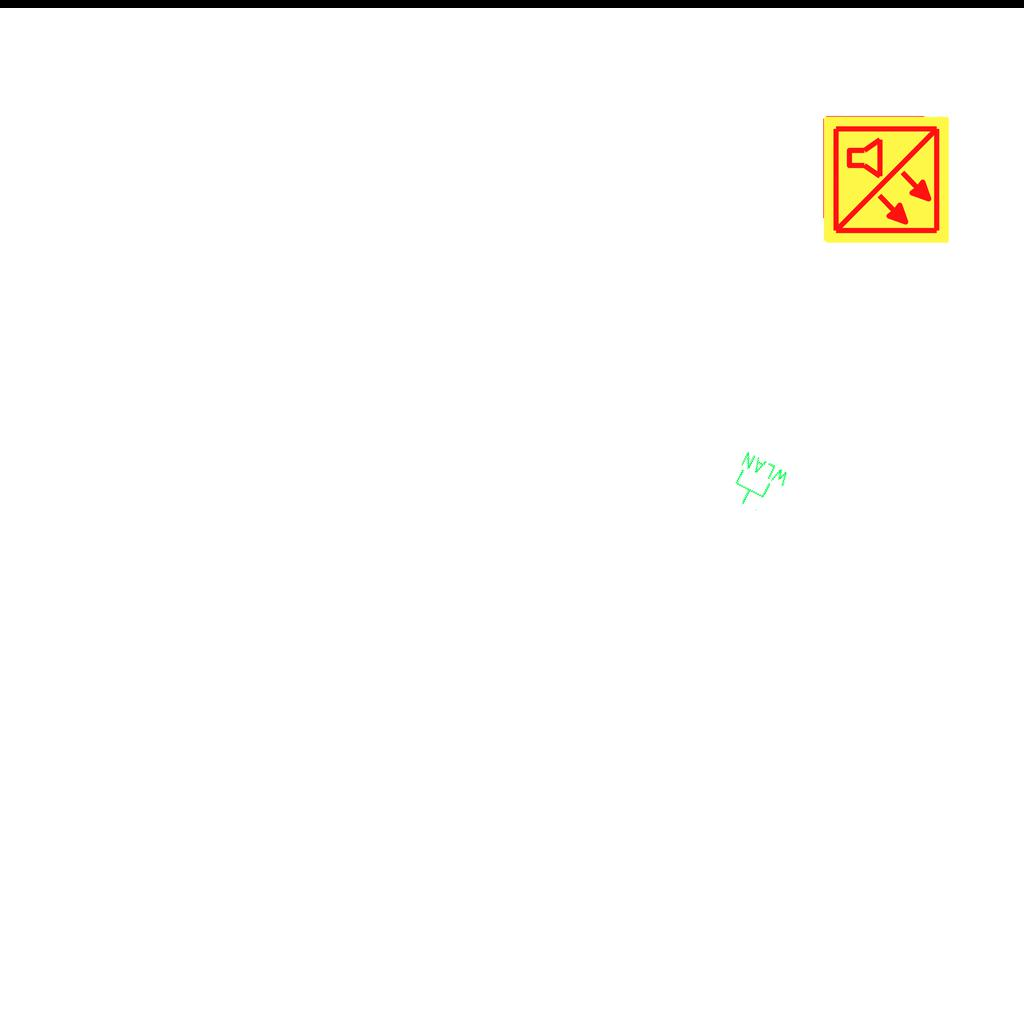OKW_Multisensormelder_(Kombination_optischer_Rauch-Kahlenmonoxid_Waerme-Melder): (820, 114, 952, 246)
WLAN: (723, 449, 793, 519)
